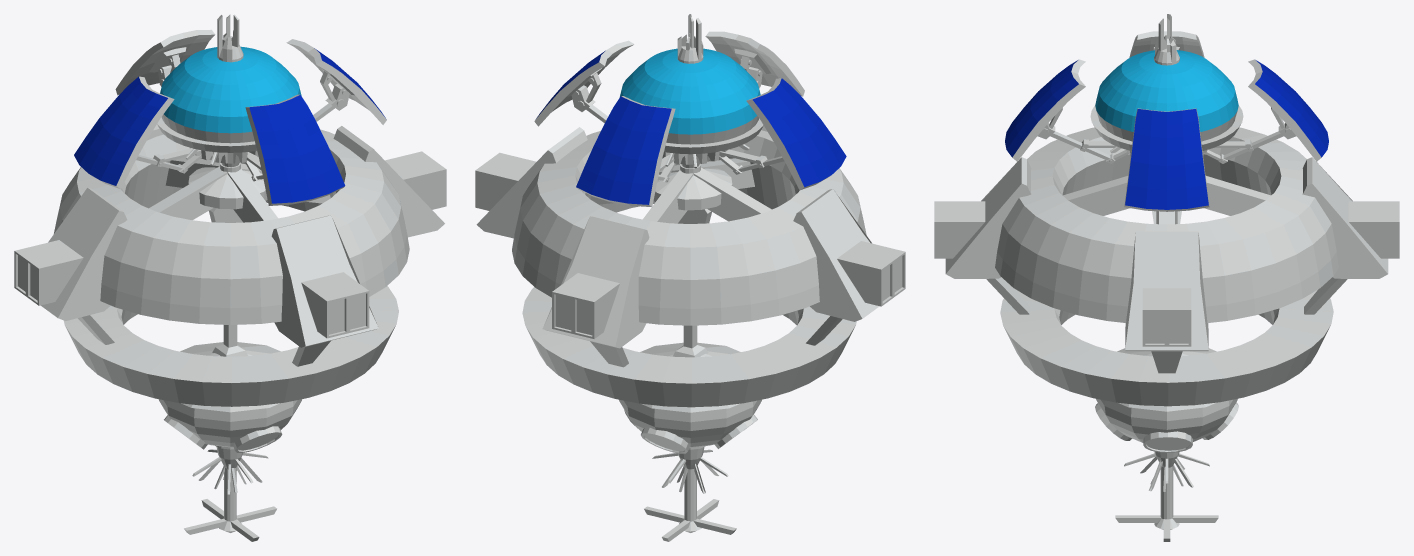
File: Station.fbx
3 renders of one model, left to right at view 1: azimuth 30°, elevation 25°; view 2: azimuth 150°, elevation 25°; view 3: azimuth 270°, elevation 25°, orthographic.
Parts seen in each view (by area): view 1: Station, Underdome Greebles.002, Underdome Greebles.001; view 2: Station, Underdome Greebles.002, Underdome Greebles.001; view 3: Station, Underdome Greebles.002, Underdome Greebles.001.
Boxes of the visible parts, x1,y1,x2,y2 form: Station: (14, 14, 446, 541); Underdome Greebles.002: (74, 48, 385, 203); Underdome Greebles.001: (160, 46, 301, 133); Station: (475, 14, 905, 541); Underdome Greebles.002: (535, 50, 846, 204); Underdome Greebles.001: (619, 48, 760, 134); Station: (934, 14, 1399, 541); Underdome Greebles.002: (1005, 60, 1328, 209); Underdome Greebles.001: (1095, 50, 1238, 131).
Size of the model in its own units: 1698 by 2067 by 1698.
